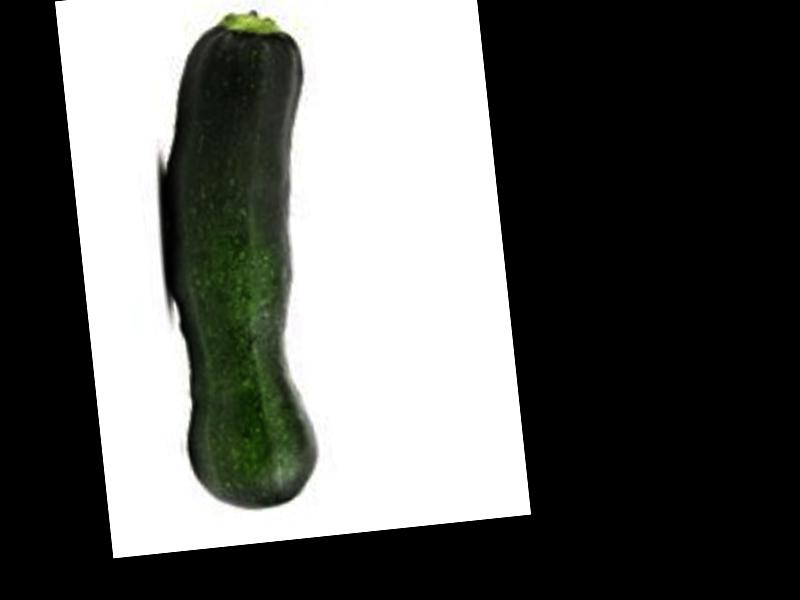Cucumber: (142, 5, 348, 514)
